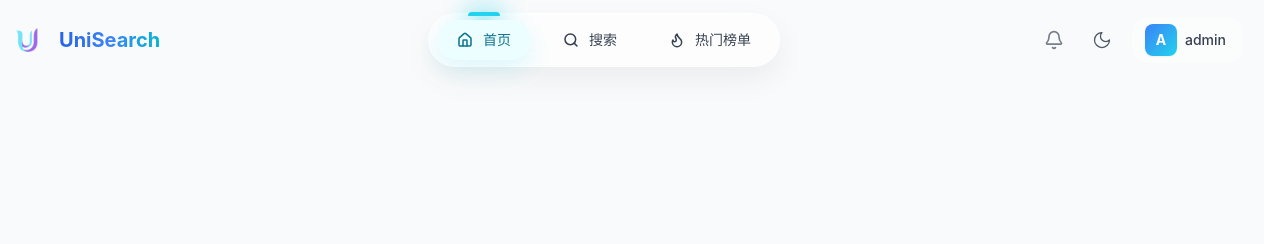
Test: Navbar › 头像菜单打开后保持浮层定位，不撑开导航布局
Click the button "A admin" at {"x": 1188, "y": 40}, box 1132,17 -> 1243,63
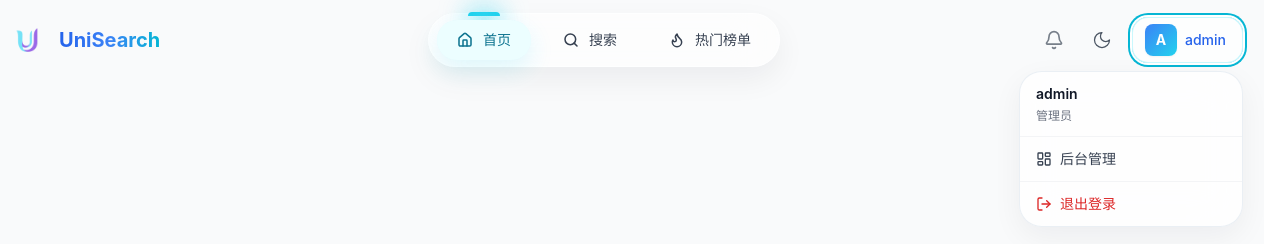
Check: the button "A admin" is expanded, box 1132,17 -> 1243,63
